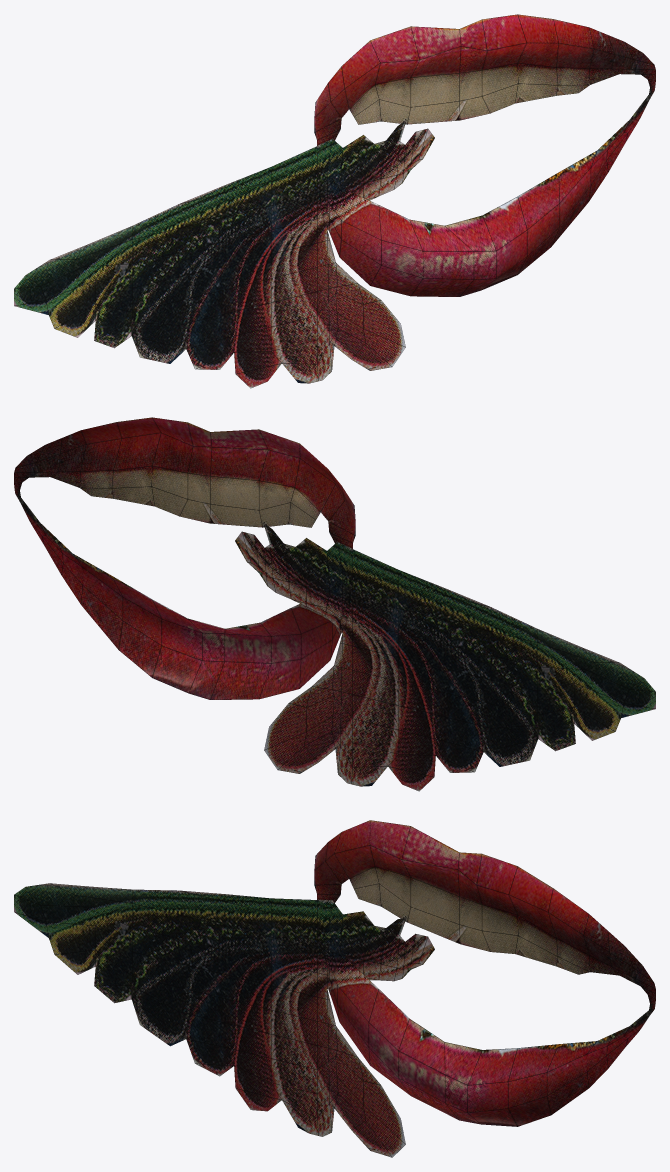
The model's file is Lips_UV2.fbx.
3 views of the same model, one above another, from view 1: azimuth 30°, elevation 25°; view 2: azimuth 150°, elevation 25°; view 3: azimuth 330°, elevation 25° (orthographic).
Parts seen in each view (by area): view 1: pPlane5; view 2: pPlane5; view 3: pPlane5.
Boxes of the visible parts, x1,y1,x2,y2 form: pPlane5: [14, 14, 655, 388]; pPlane5: [14, 417, 655, 791]; pPlane5: [14, 820, 655, 1157].
Size of the model in its own units: 7.69 by 3.85 by 0.2985.
1 material, 1 textured.
